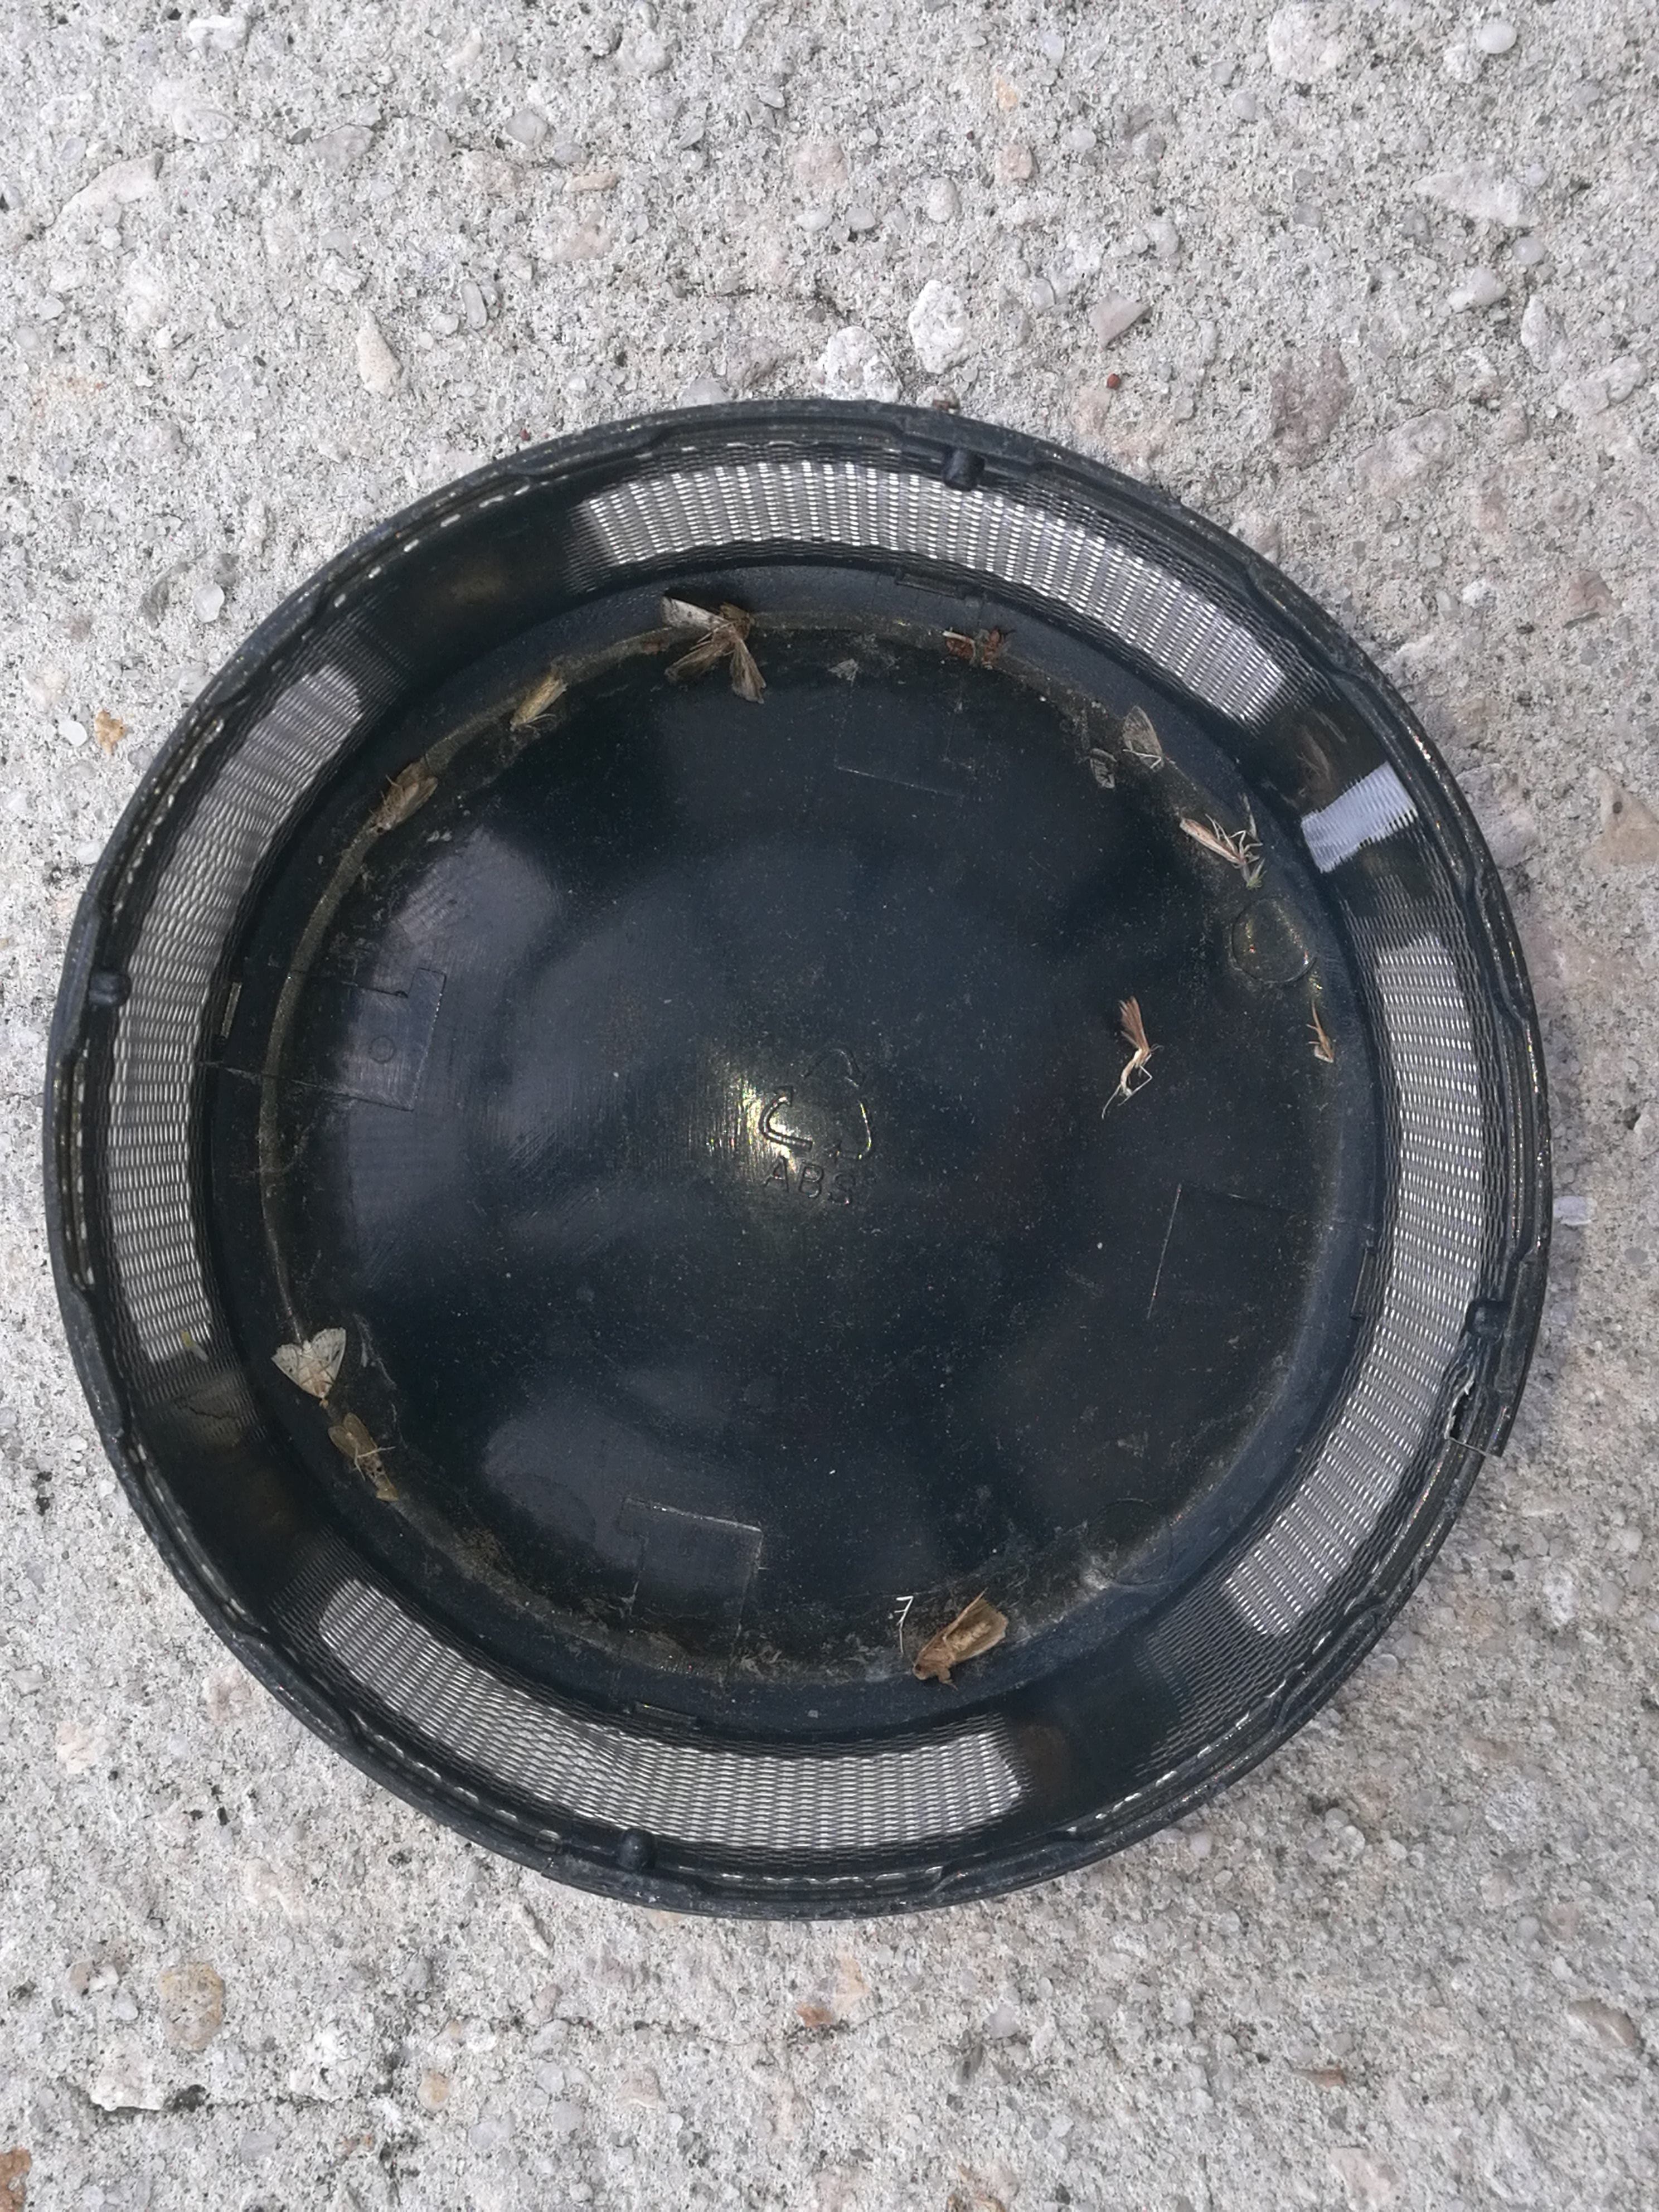mosquito: (1180, 815, 1244, 869), (509, 678, 565, 730)
moth: (669, 594, 767, 704), (913, 1588, 1006, 1681), (274, 1329, 345, 1399), (375, 763, 437, 836), (328, 1413, 383, 1479)
